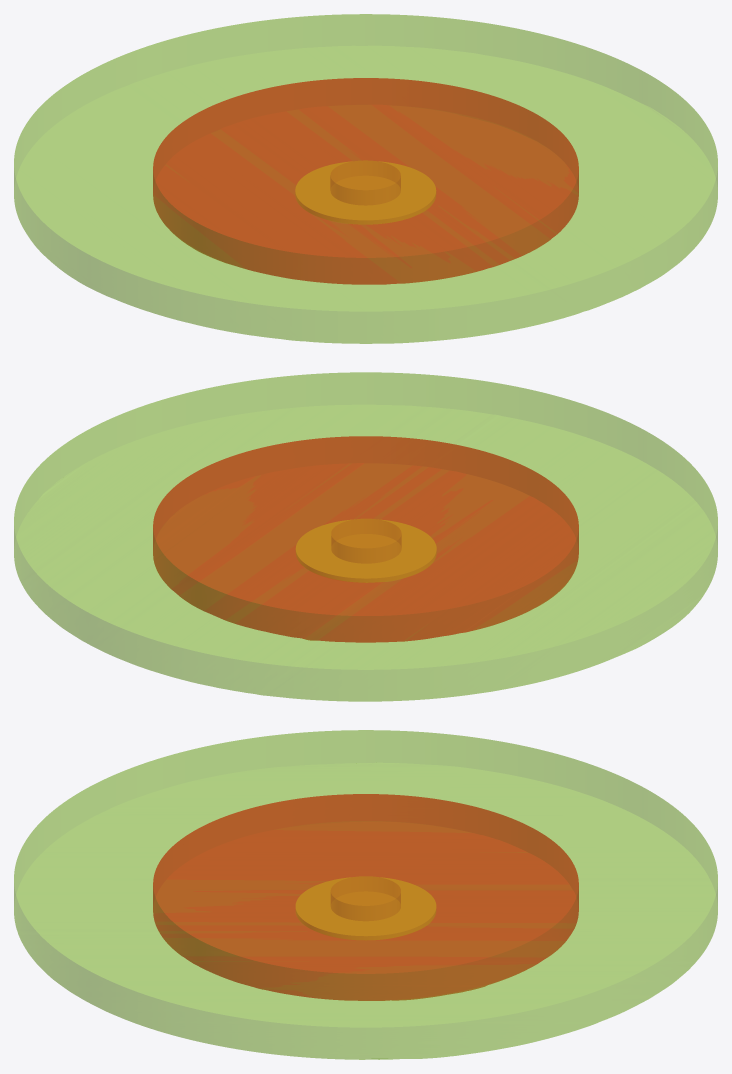
The model's file is Airspace5Buffers_TestLoc.glb.
3 views of the same model, one above another, from view 1: azimuth 30°, elevation 25°; view 2: azimuth 150°, elevation 25°; view 3: azimuth 270°, elevation 25° (orthographic).
Parts seen in each view (by area): view 1: 1GlassFieldClassE, 2GlassField3nm, 4VictoriaHospitalHeliport, 5CYR309Pen; view 2: 1GlassFieldClassE, 2GlassField3nm, 4VictoriaHospitalHeliport, 5CYR309Pen; view 3: 1GlassFieldClassE, 2GlassField3nm, 4VictoriaHospitalHeliport, 5CYR309Pen.
Boxes of the visible parts, bbox=[...] form: 1GlassFieldClassE: bbox=[14, 14, 717, 343]; 2GlassField3nm: bbox=[153, 78, 578, 284]; 4VictoriaHospitalHeliport: bbox=[296, 162, 435, 223]; 5CYR309Pen: bbox=[330, 160, 400, 204]; 1GlassFieldClassE: bbox=[14, 372, 717, 701]; 2GlassField3nm: bbox=[153, 436, 578, 642]; 4VictoriaHospitalHeliport: bbox=[296, 520, 435, 577]; 5CYR309Pen: bbox=[331, 519, 401, 562]; 1GlassFieldClassE: bbox=[14, 730, 717, 1059]; 2GlassField3nm: bbox=[153, 794, 578, 1000]; 4VictoriaHospitalHeliport: bbox=[296, 878, 435, 936]; 5CYR309Pen: bbox=[331, 876, 400, 920].
Bounding box in the file's own units: 18520 × 966 × 18520.
